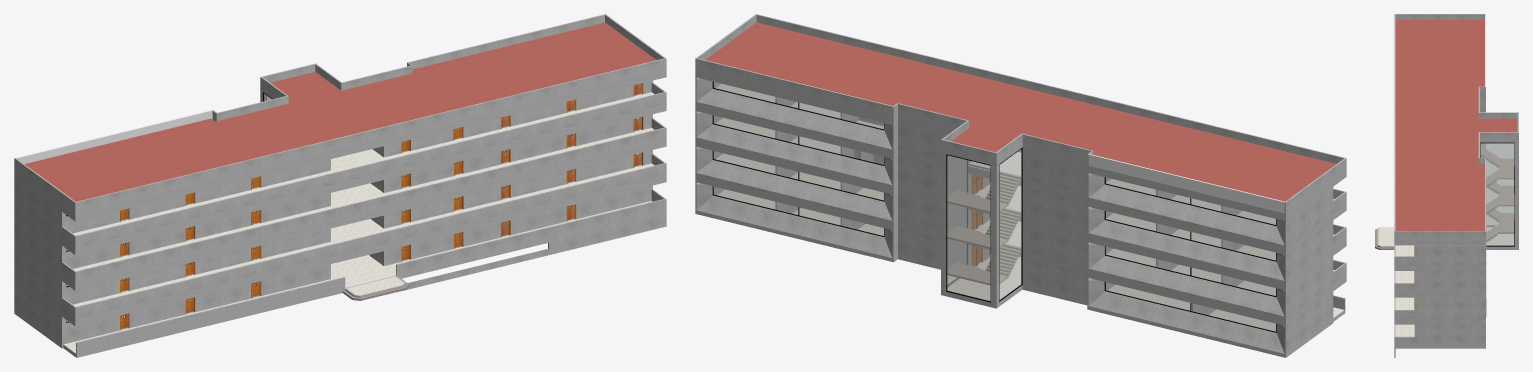
Rendered from MUROS.fbx.
3 views of the same model, side by side, from view 1: azimuth 30°, elevation 25°; view 2: azimuth 150°, elevation 25°; view 3: azimuth 270°, elevation 25° (orthographic). The views are drawn at different scales.
Parts seen in each view (by area): view 1: Group1, Unir, Group508, Group1010, Group1068, Group2062, FALDON3, FALDON2, FALDON, FALDON1, Group2061, Unir4 (+18 smaller); view 2: Group1, Unir, Group2104, Group1573, FALDON1, FALDON2, FALDON3, FALDON, Group2069, Group2063, ENTREPISO1, ENTREPISO (+48 smaller); view 3: Group1, Group2088, Unir, Group2054, Group1050, Group1006, Group502, Group2096, Group1573, FALDON, FALDON1, FALDON2 (+21 smaller).
Part boxes in pixels (x1,y1,x2,y2): Group1: (24,22,656,201); Unir: (14,14,666,213); Group508: (76,91,666,247); Group1010: (76,127,666,282); Group1068: (76,163,666,318); Group2062: (396,199,666,292); FALDON3: (14,174,666,326); FALDON2: (14,139,666,290); FALDON: (14,70,666,221); FALDON1: (14,103,666,254); Group2061: (76,277,345,357); Unir4: (14,159,329,236); Group1: (705,22,1336,201); Unir: (695,14,1346,213); Group2104: (947,155,990,300); Group1573: (696,189,1344,357); FALDON1: (695,103,1346,254); FALDON2: (695,139,1346,290); FALDON3: (695,174,1346,325); FALDON: (695,70,1346,221); Group2069: (1089,291,1284,353); Group2063: (697,195,891,257); ENTREPISO1: (696,153,1334,318); ENTREPISO: (696,118,1334,282); Group1: (1395,20,1517,230); Group2088: (1480,143,1514,245); Unir: (1394,14,1485,239); Group2054: (1414,324,1485,348); Group1050: (1413,297,1485,318); Group1006: (1414,271,1485,291); Group502: (1415,245,1485,265); Group2096: (1480,143,1513,225); Group1573: (1395,227,1514,336); FALDON: (1394,240,1485,245); FALDON1: (1394,265,1485,270); FALDON2: (1394,292,1485,297).
Size of the model in its own units: 66.04 by 17.93 by 18.49.
